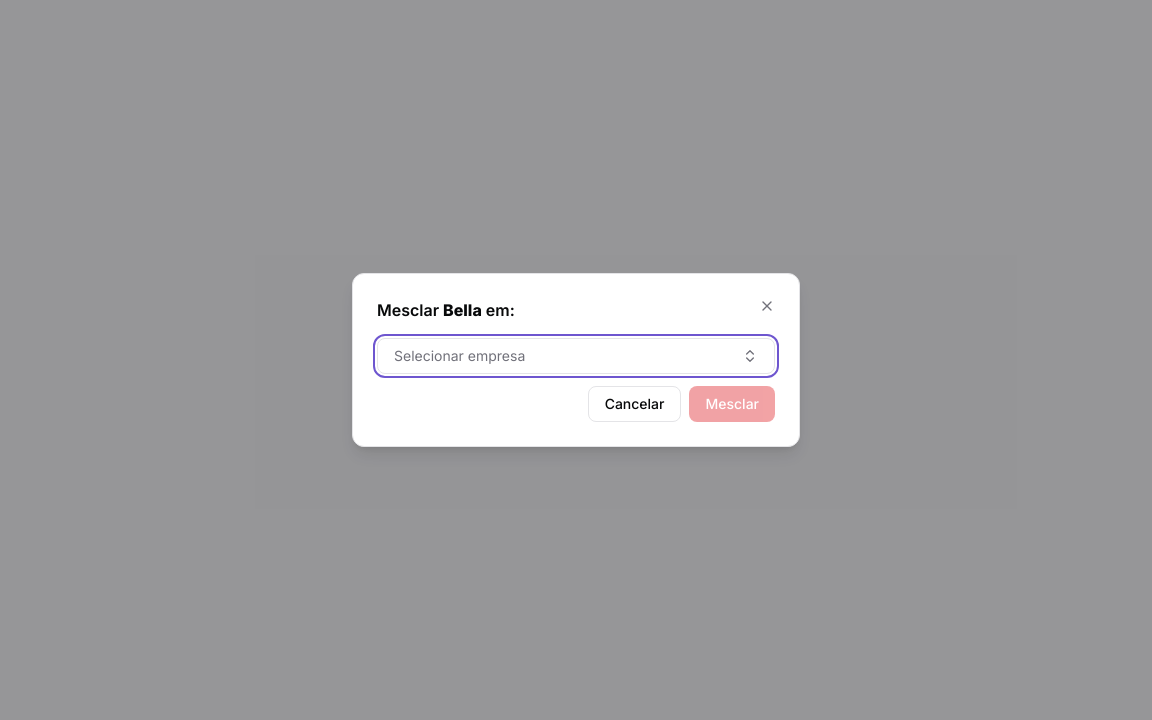
Test: MergeCompanyDialog › shows a 422 under the combobox
Click the dropdown named "Empresa que fica". click: click(460, 356)
box: left=377, top=338, right=775, bottom=374
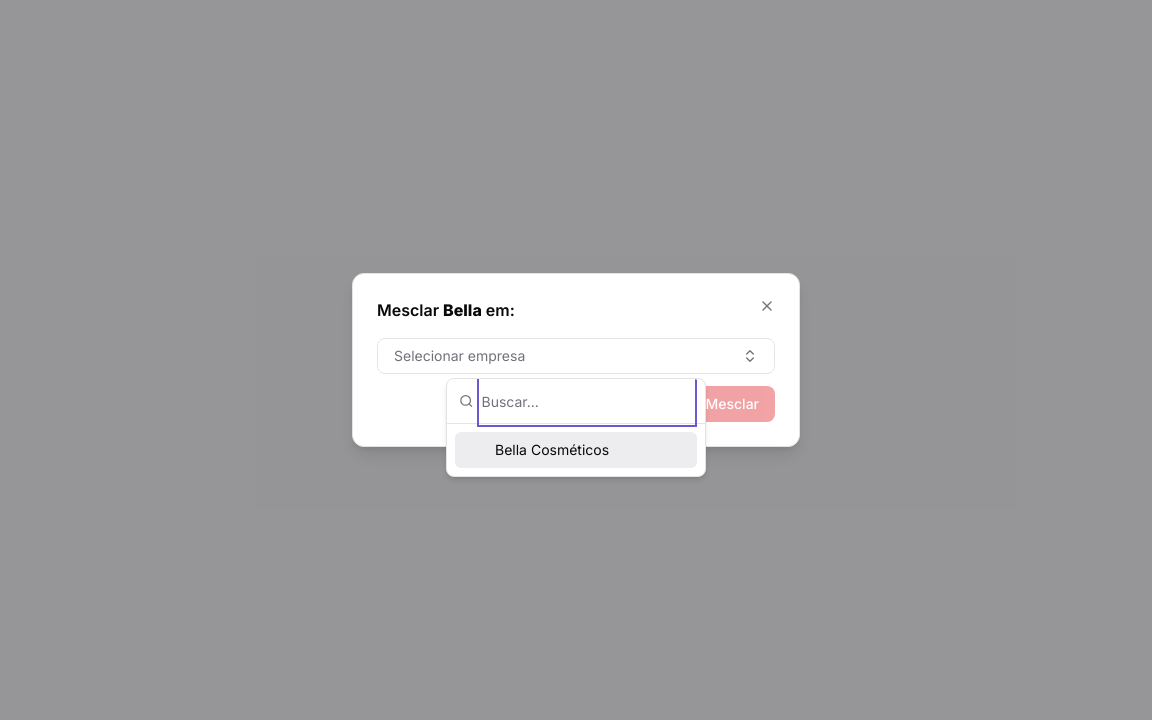
Click the option "Bella Cosméticos". click: click(576, 450)
box: left=455, top=432, right=697, bottom=468
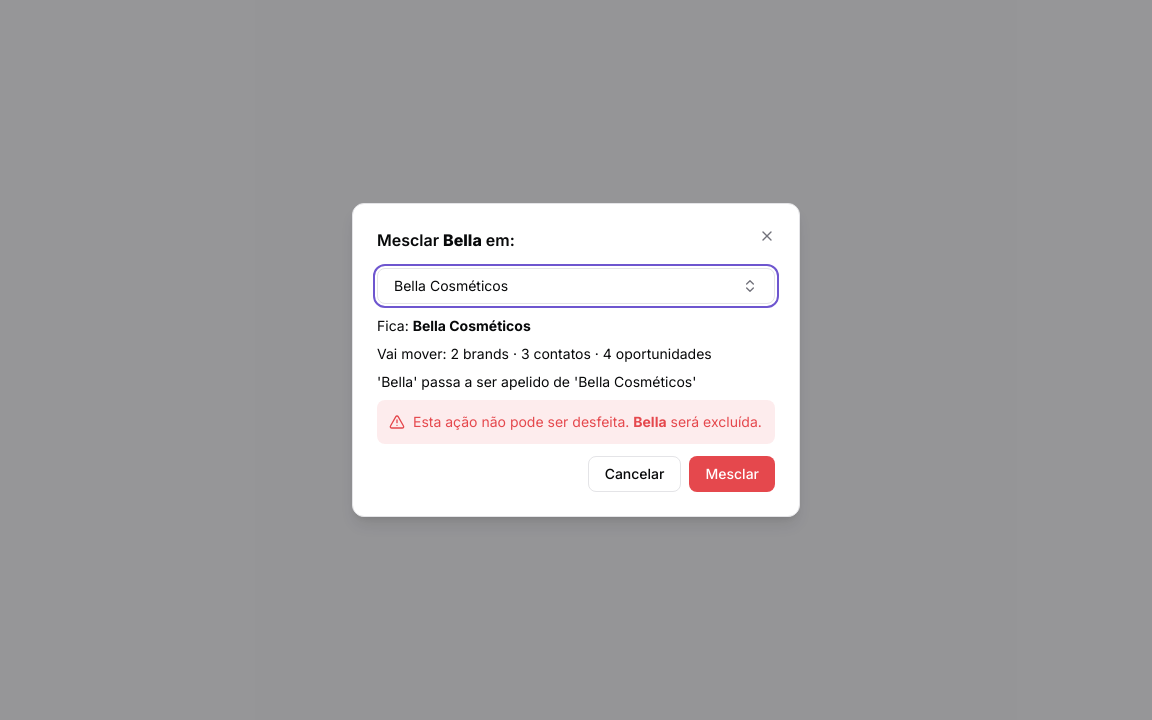
Click the button "Mesclar". click: click(732, 474)
box: left=690, top=456, right=775, bottom=492
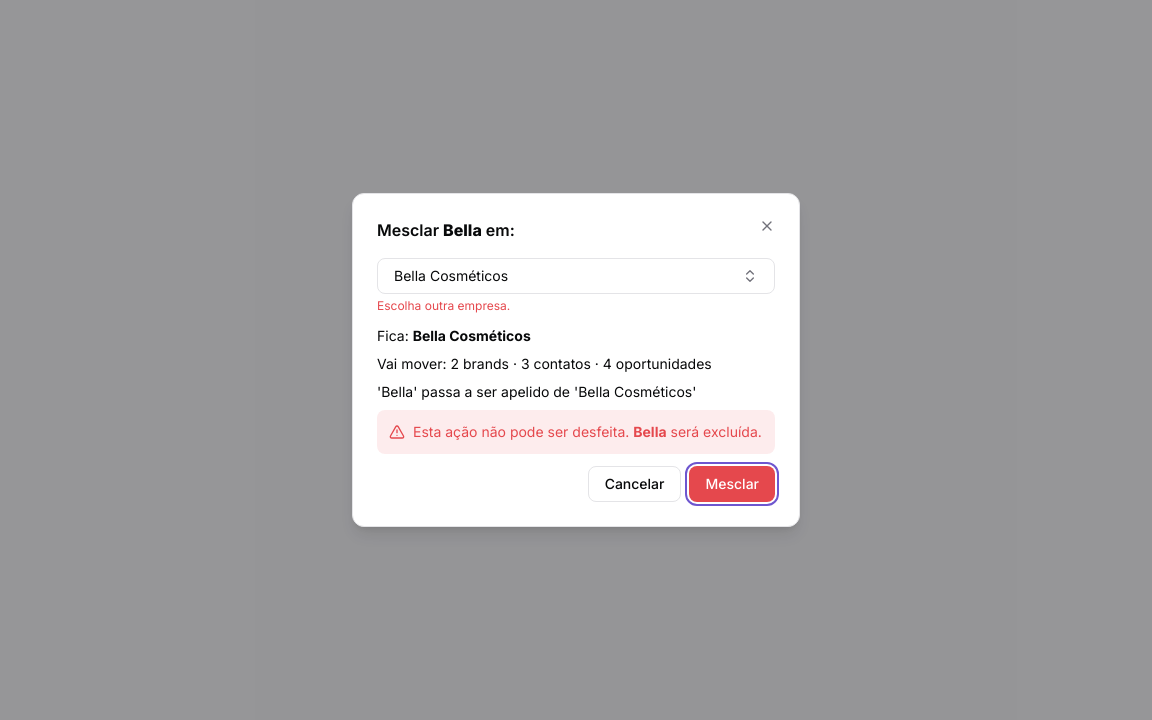
Expected: the text "Escolha outra empresa." is shown, left=377, top=298, right=510, bottom=313
